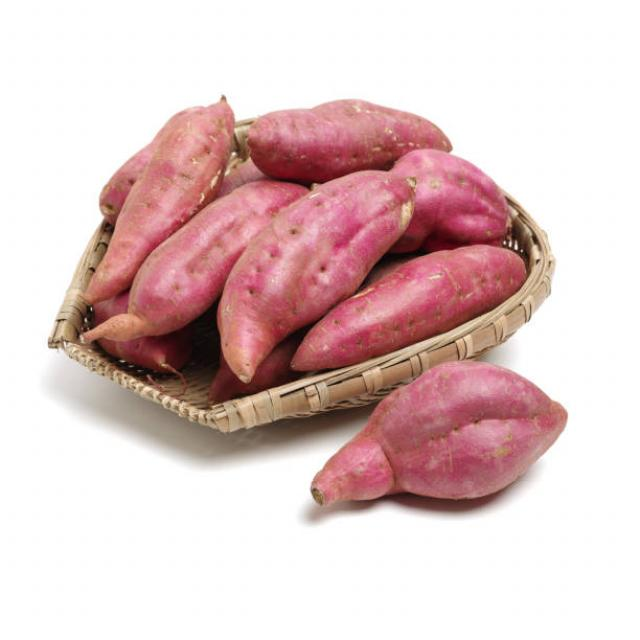Sweet Potato: (219, 168, 419, 382), (84, 92, 234, 320), (292, 242, 533, 368), (370, 366, 574, 506), (244, 92, 453, 180), (399, 144, 512, 247)
